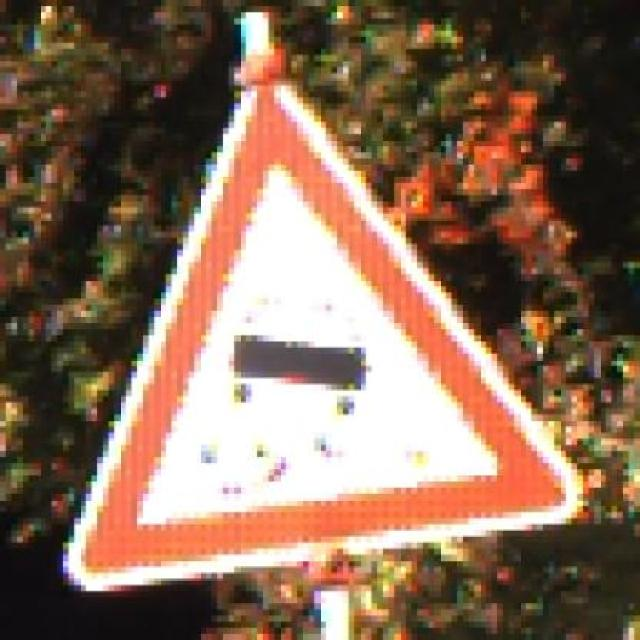Slippery Road Ahead: (51, 85, 594, 598)
